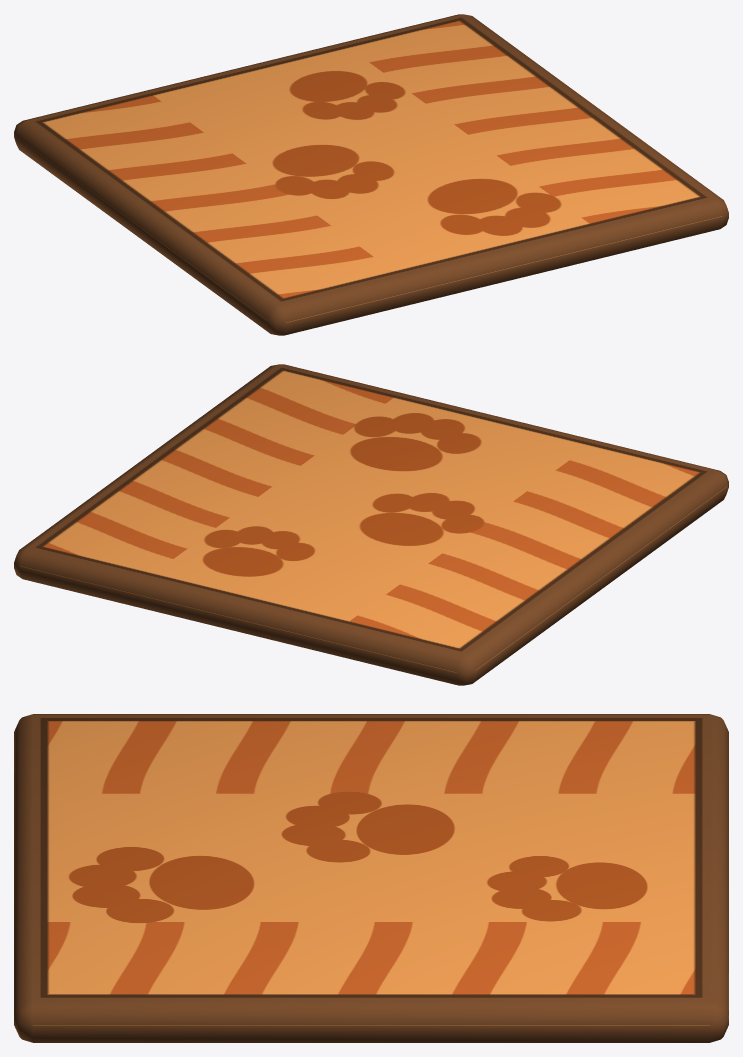
The model's file is CatGate_Tile.fbx.
3 views of the same model, one above another, from view 1: azimuth 30°, elevation 25°; view 2: azimuth 150°, elevation 25°; view 3: azimuth 270°, elevation 25° (orthographic). The views are drawn at different scales.
Parts seen in each view (by area): view 1: CatGate_Tile; view 2: CatGate_Tile; view 3: CatGate_Tile.
Part boxes in pixels (left/top/right/bottom): CatGate_Tile: left=14, top=14, right=728, bottom=335; CatGate_Tile: left=14, top=364, right=728, bottom=685; CatGate_Tile: left=14, top=714, right=728, bottom=1042.
Size of the model in its own units: 0.94 by 0.06 by 0.94.
Materials: 1 (1 with a texture image).
